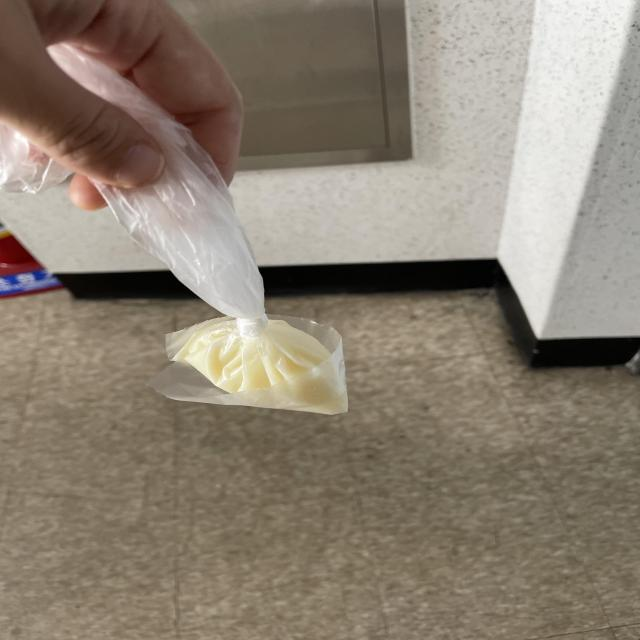litter: (1, 41, 349, 415)
